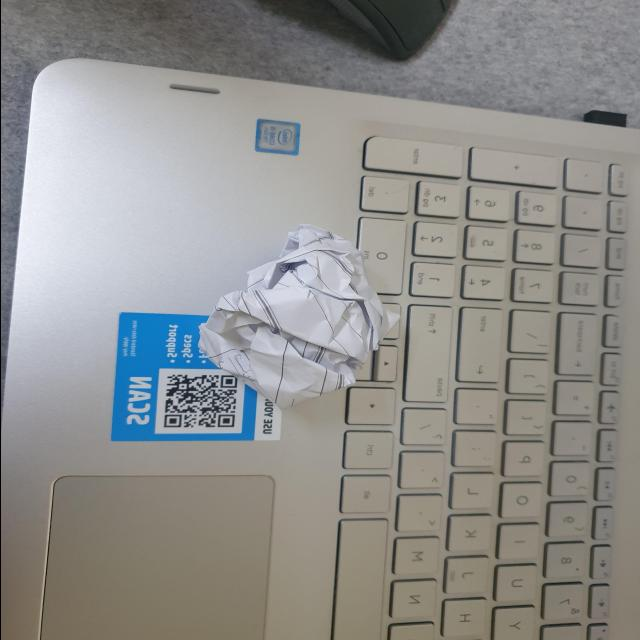kertas: (180, 220, 406, 414)
